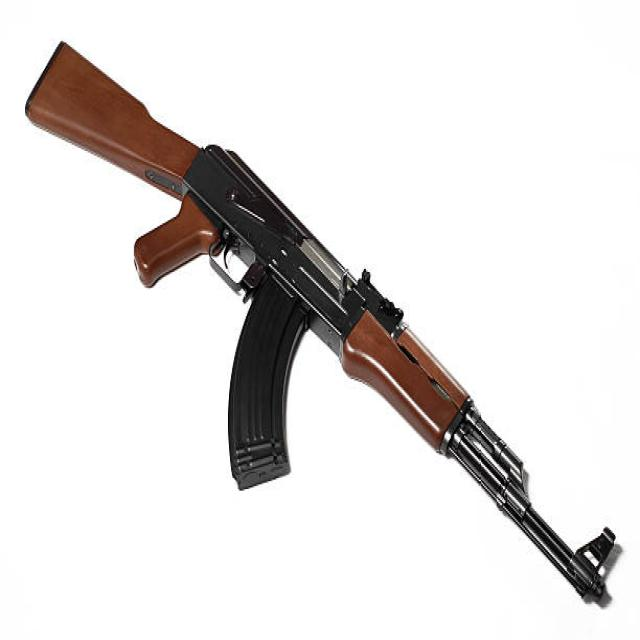rifle: (18, 25, 626, 612)
